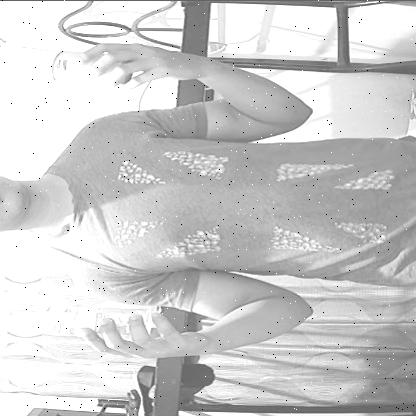Plastic Bottle: (7, 301, 151, 337)
